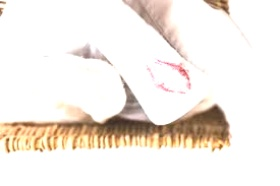lipstick: (148, 58, 192, 96)
